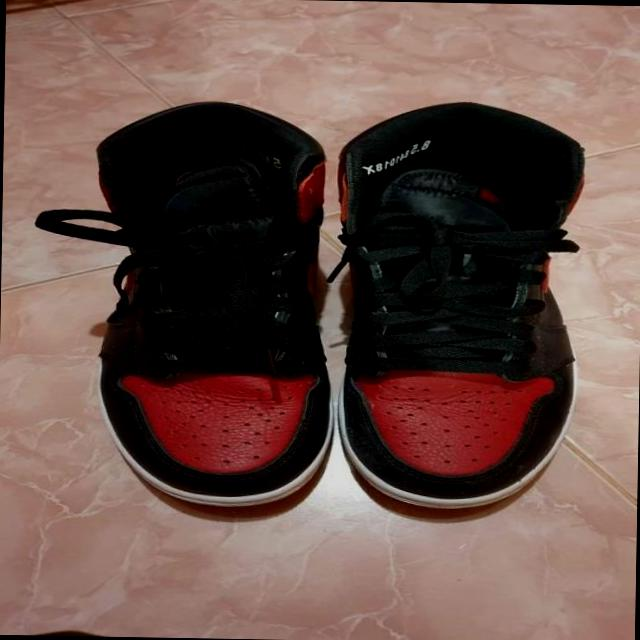nike_original_jordan: (328, 98, 588, 534), (77, 99, 348, 510)
